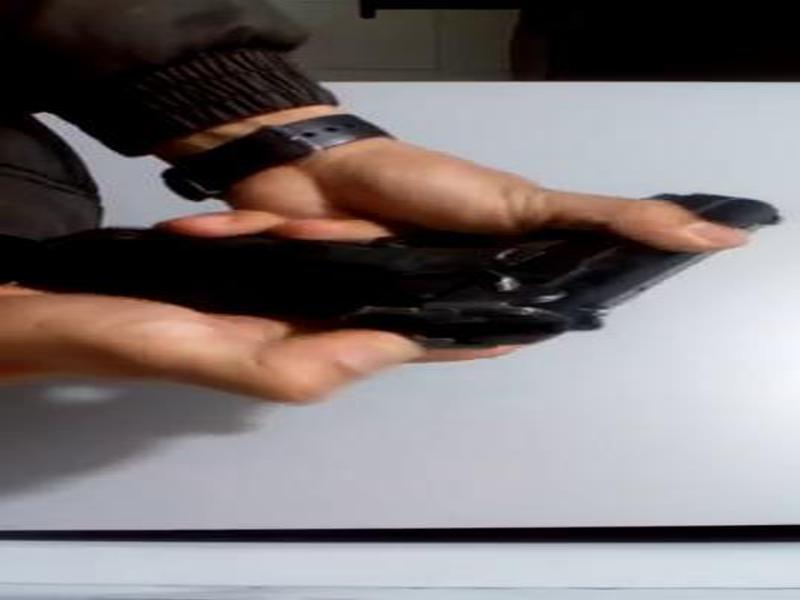Pistola: (16, 174, 800, 397)
